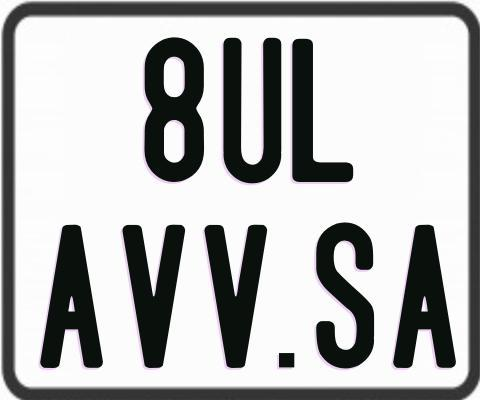8: (143, 34, 203, 185)
A: (39, 222, 107, 367), (390, 224, 455, 369)
L: (290, 37, 355, 182)
S: (316, 222, 377, 370)
U: (222, 37, 281, 183)
V: (120, 223, 188, 366), (203, 222, 270, 365)
